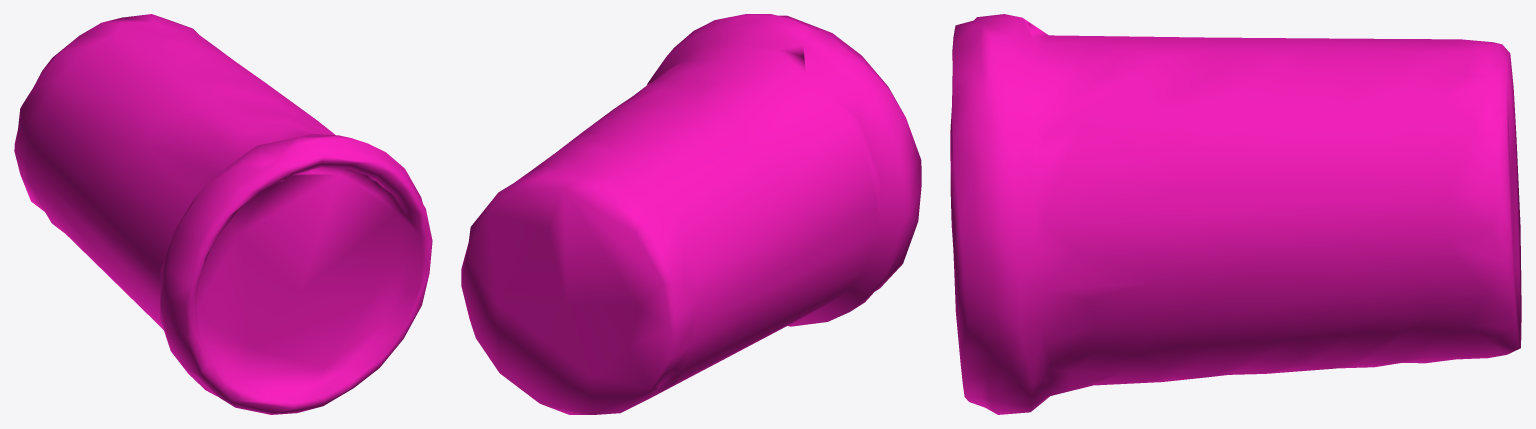
File: cup1_5.dae
The picture shows the model from 3 angles, left to right: view 1: azimuth 30°, elevation 25°; view 2: azimuth 150°, elevation 25°; view 3: azimuth 270°, elevation 25°; orthographic projection. The views are drawn at different scales.
Visible parts, largest first — view 1: BakingVanilla_800_tex_019; view 2: BakingVanilla_800_tex_019; view 3: BakingVanilla_800_tex_019.
Part boxes in pixels (box(x1,y1,x2,y2)): BakingVanilla_800_tex_019: box(14, 14, 432, 414); BakingVanilla_800_tex_019: box(461, 14, 921, 414); BakingVanilla_800_tex_019: box(950, 14, 1521, 414).
Size of the model in its own units: 0.1593 by 0.2268 by 0.1605.
